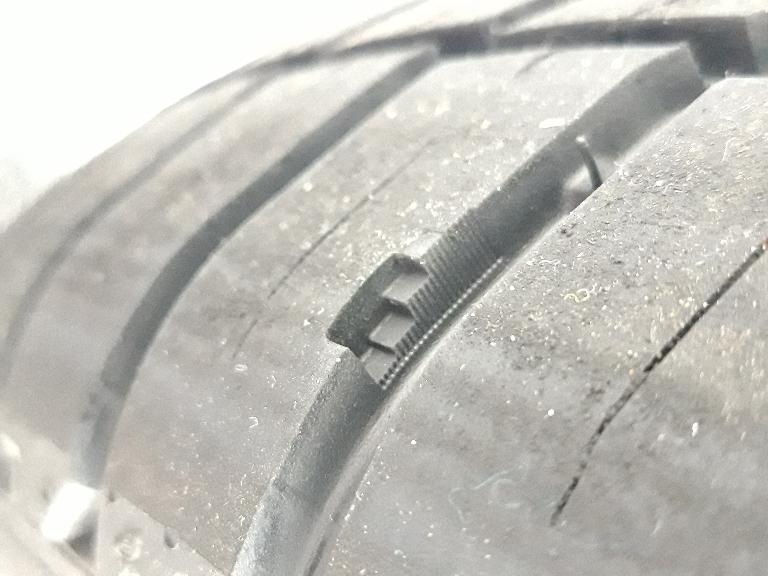temoin:75: (314, 216, 484, 402)
